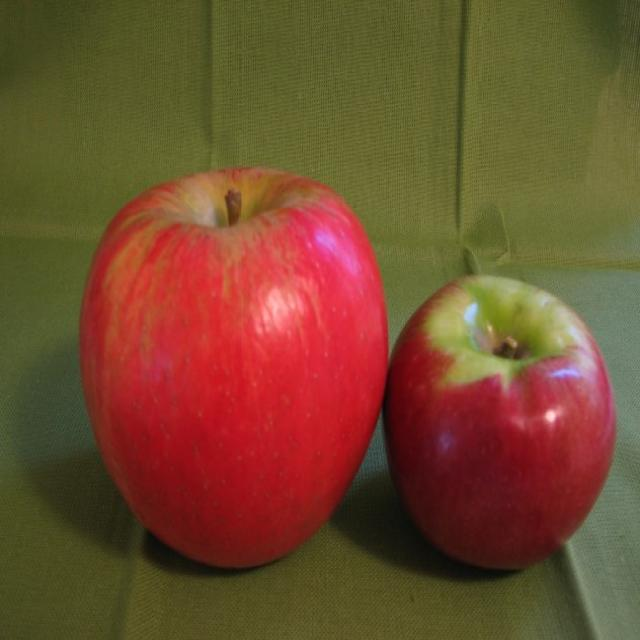Apple: (68, 166, 387, 571), (387, 270, 617, 566)
